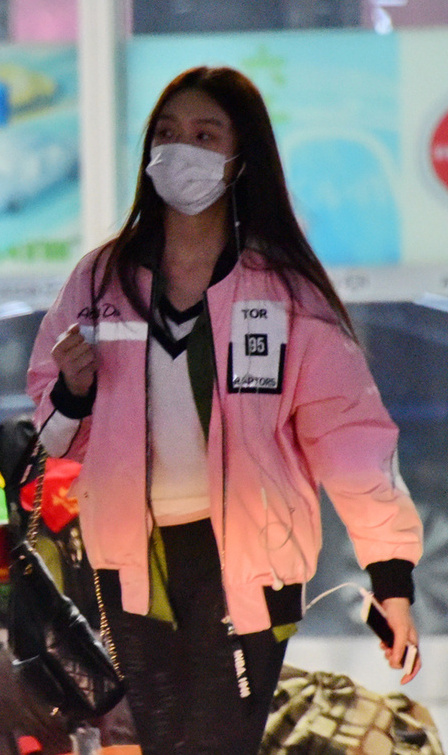face_mask: (148, 97, 234, 216)
